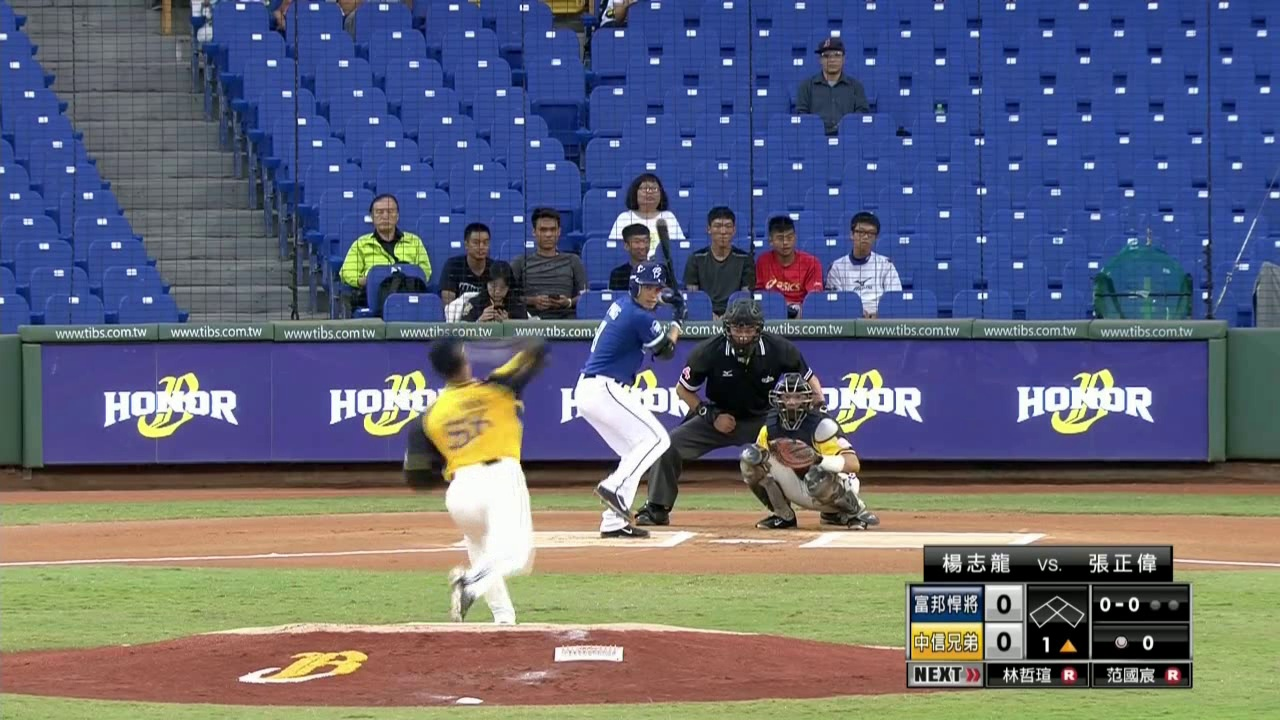ball: (466, 342, 516, 367)
bat: (650, 209, 688, 317), (1029, 595, 1088, 629)
out: (1148, 597, 1182, 612)
score1: (985, 584, 1023, 617)
score2: (983, 623, 1025, 660)
session: (1038, 632, 1081, 655)
strikeball: (1097, 592, 1143, 614)
total: (1111, 627, 1163, 655)
